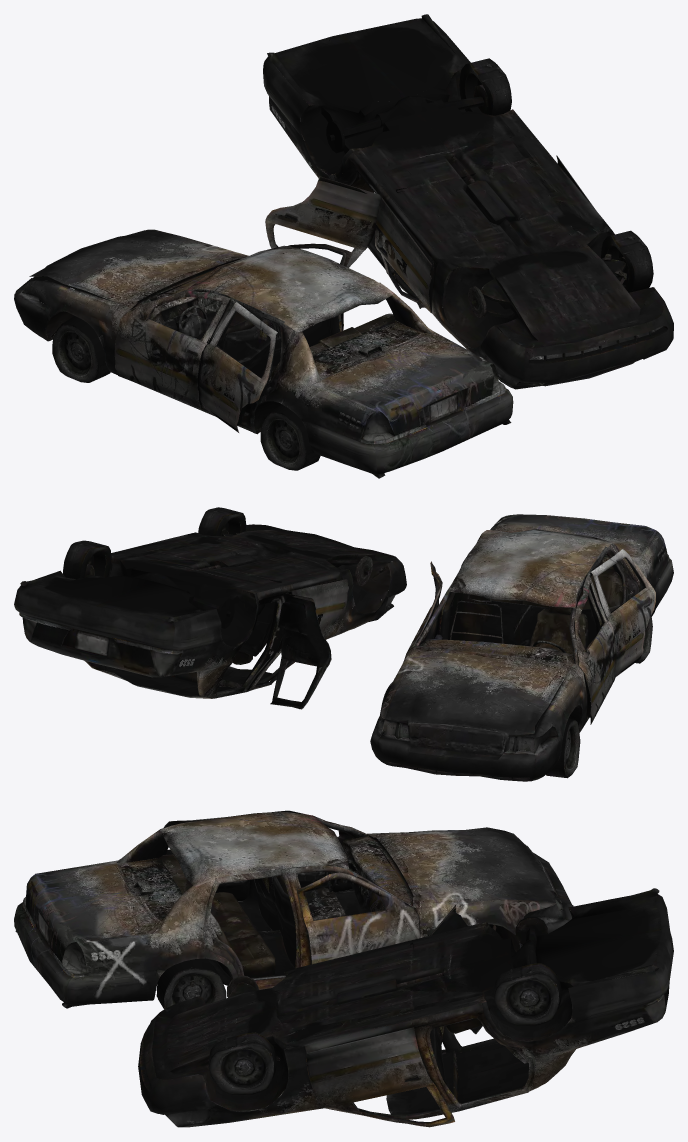
File: burnt-police.glb
3 views of the same model, one above another, from view 1: azimuth 30°, elevation 25°; view 2: azimuth 150°, elevation 25°; view 3: azimuth 270°, elevation 25° (orthographic). The views are drawn at different scales.
Visible parts, largest first — view 1: Object005_Material #99_0, Object004_Material #98_0; view 2: Object004_Material #98_0, Object005_Material #99_0; view 3: Object005_Material #99_0, Object004_Material #98_0.
Part boxes in pixels (x1,y1,x2,y2): Object005_Material #99_0: [263, 14, 673, 389]; Object004_Material #98_0: [14, 229, 513, 478]; Object004_Material #98_0: [370, 514, 673, 781]; Object005_Material #99_0: [14, 507, 406, 709]; Object005_Material #99_0: [138, 888, 673, 1127]; Object004_Material #98_0: [14, 810, 573, 1009].
Bounding box in the file's own units: 601 × 197 × 690.
Materials: 2 (2 with a texture image).
